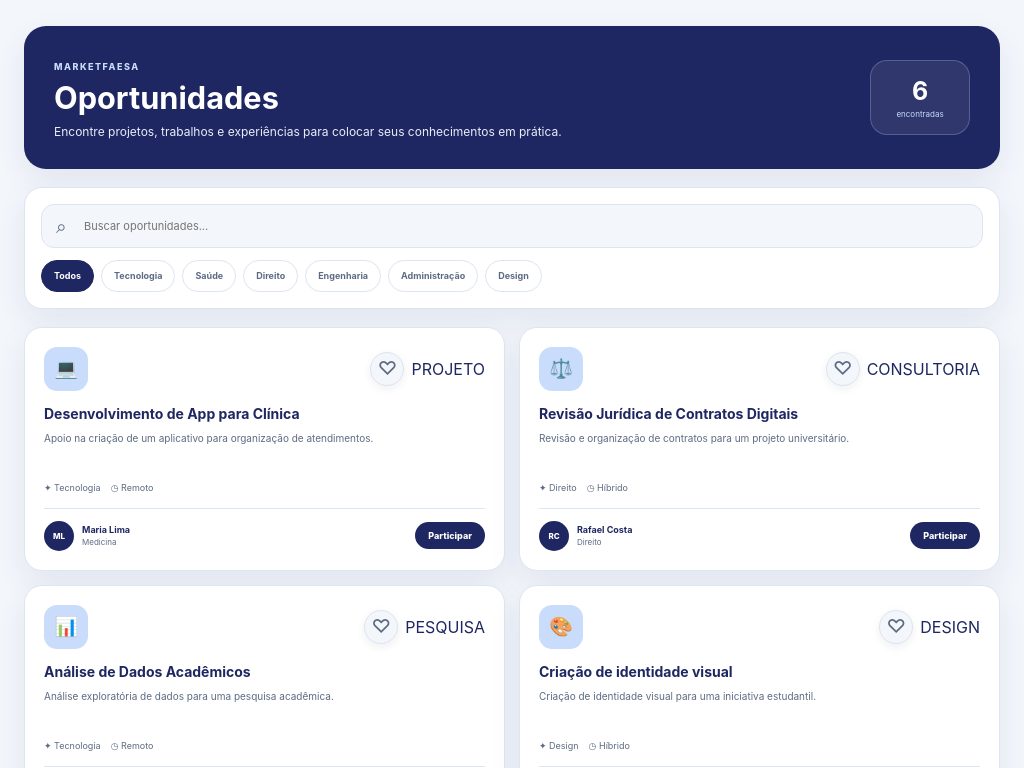
Scenario: Oportunidades › inclui oportunidade de tecnologia em saúde no filtro Saúde
Click the button "Saúde" at (209, 276), box [182,260,236,292]
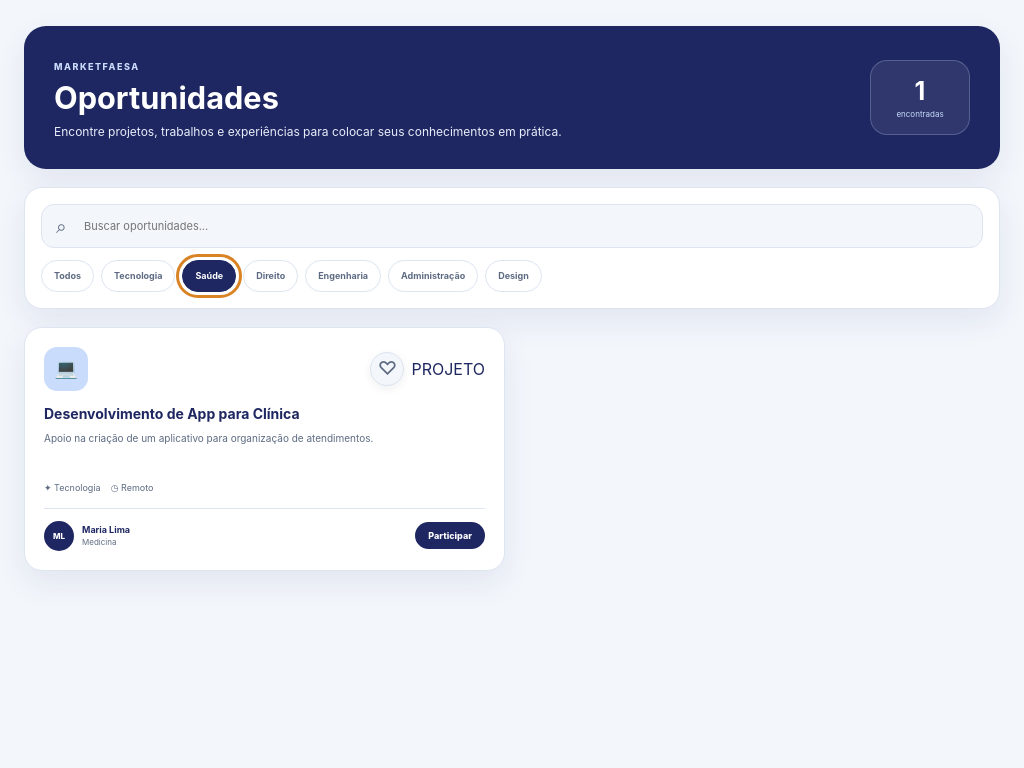
Expected: the heading "Desenvolvimento de App para Clínica" is shown, [44,405,300,422]
Expected: the text "1" is shown, [915,76,925,106]
Expected: the heading "Revisão Jurídica de Contratos Digitais" is gone
